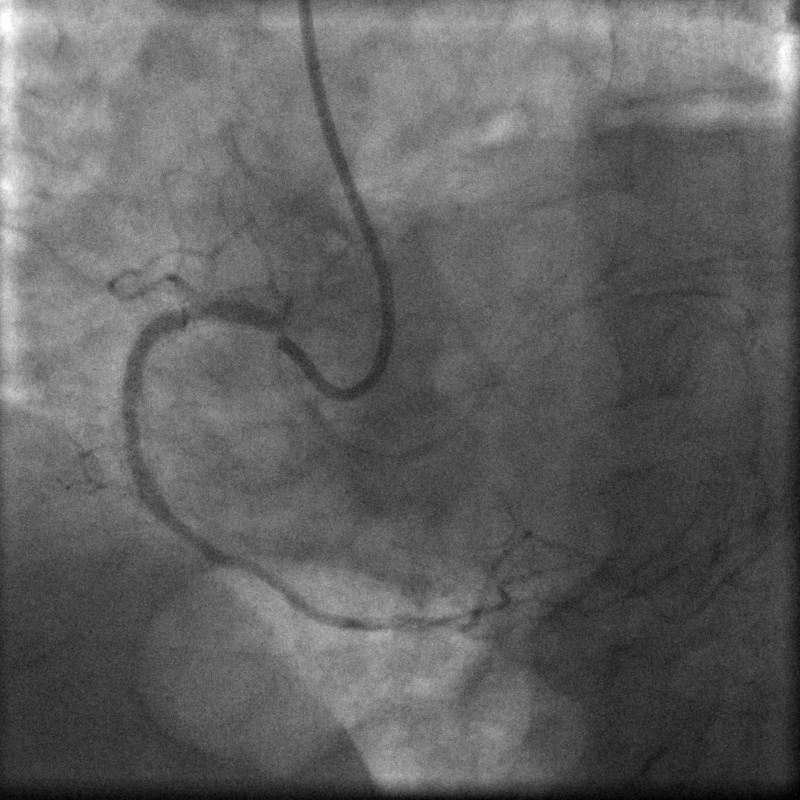Stenosis: (119, 403, 146, 477)
